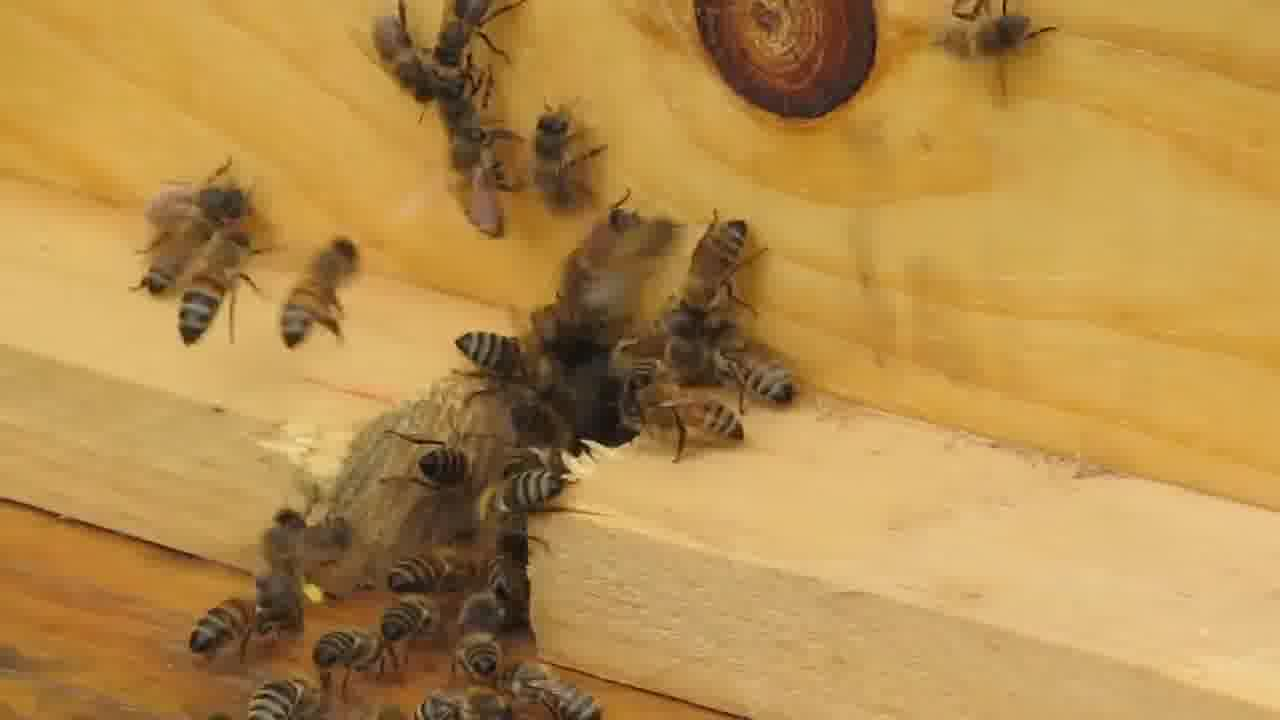pollen: (257, 509, 327, 639)
